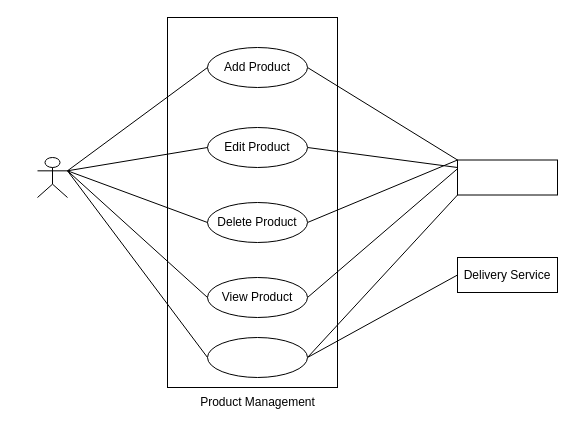
The diagram is 575 pixels wide and 435 high, and some of its shapes have lost their labels. Here are the shapes that lost their labels. From the top down, the centre of each, then its label:
point 52,177: Administrator
point 507,177: Database
point 257,357: Process Order
